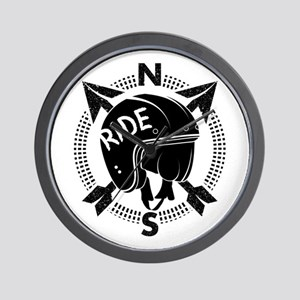with_helmet: (98, 91, 196, 188)
